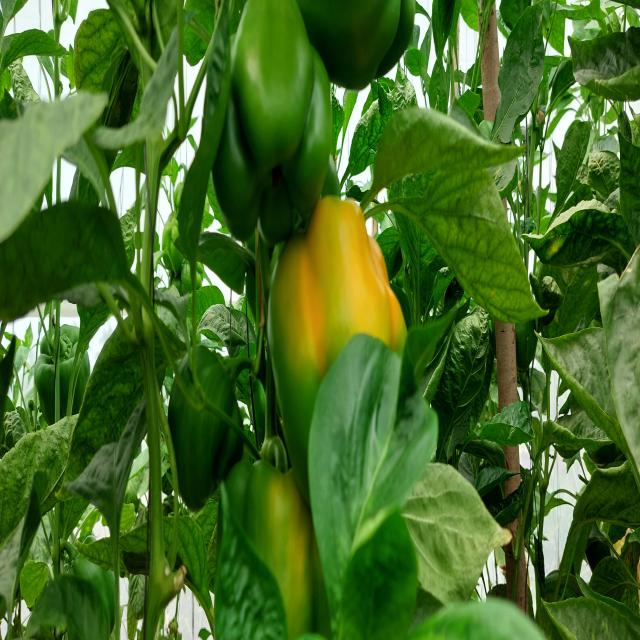Green--Not-ready-to-harvest: (210, 5, 341, 218), (168, 333, 242, 507), (317, 0, 400, 83)
GreenishYellow--Can-be-Harvested: (255, 242, 430, 490), (230, 473, 322, 637)
